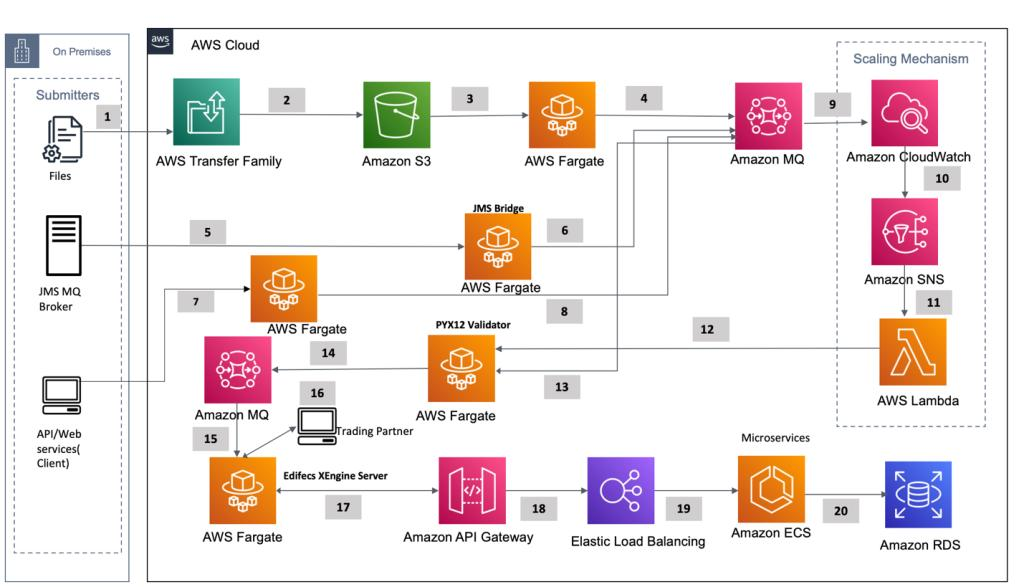API Gateway: (441, 459, 503, 523)
Backend: (429, 340, 493, 403), (255, 260, 314, 318), (887, 321, 939, 385), (213, 462, 271, 518), (747, 461, 799, 520), (537, 84, 587, 145), (476, 220, 522, 275)
Configuration: (877, 85, 936, 139)
Database: (888, 464, 947, 525)
Load Balancer: (594, 462, 650, 518)
Messaging: (875, 205, 936, 259), (741, 91, 797, 142), (212, 345, 264, 396)
Storage: (365, 87, 430, 145)
Workflow Engine: (179, 86, 232, 143)
